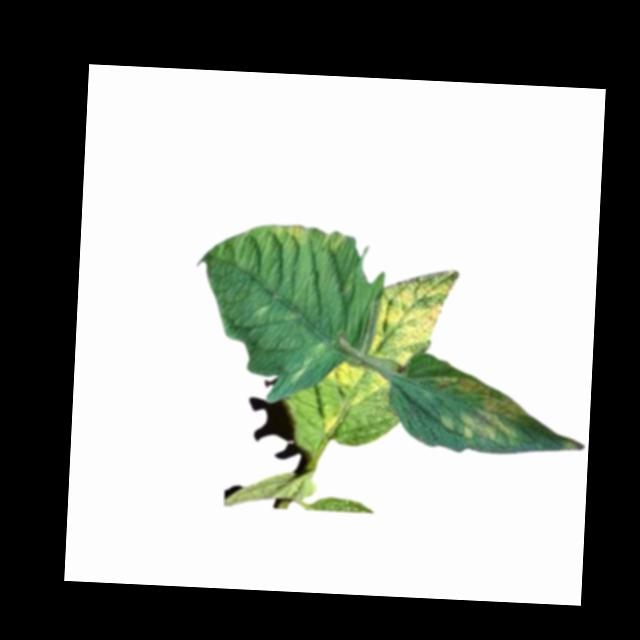Leaf_Mold: (369, 265, 461, 371), (427, 370, 532, 443), (323, 357, 395, 408), (271, 221, 312, 241), (320, 411, 341, 440)
